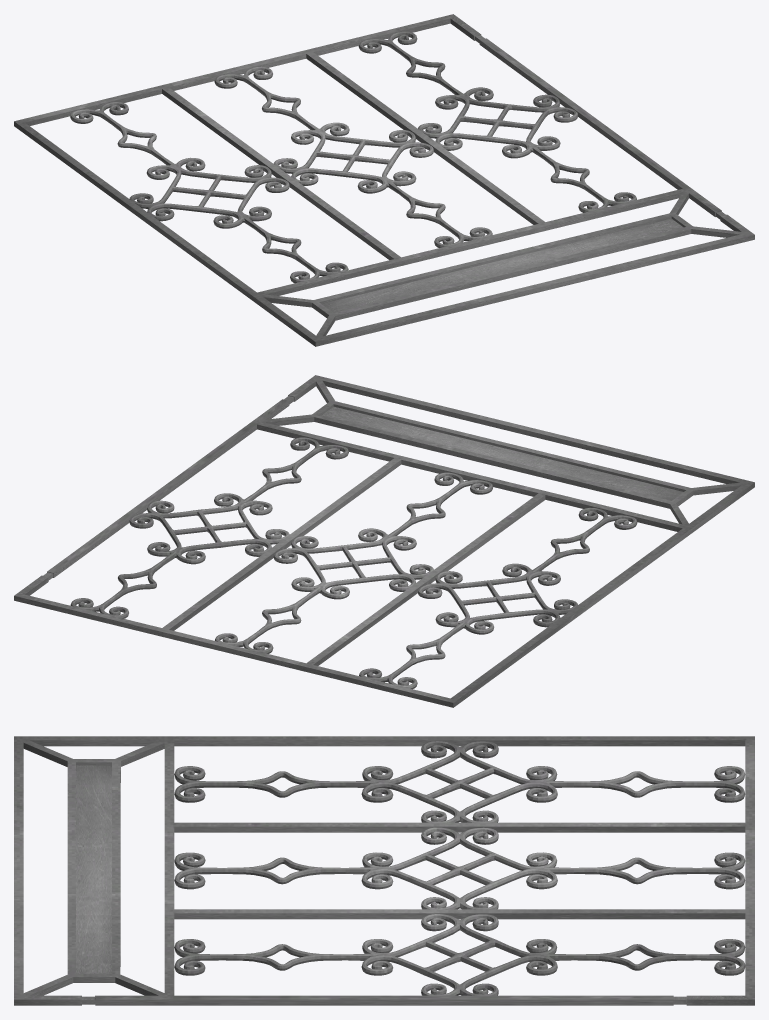
File: portao.obj
The picture shows the model from 3 angles, top to bottom: view 1: azimuth 30°, elevation 25°; view 2: azimuth 150°, elevation 25°; view 3: azimuth 270°, elevation 25°; orthographic projection. The views are drawn at different scales.
Parts seen in each view (by area): view 1: Portao_Cube.001; view 2: Portao_Cube.001; view 3: Portao_Cube.001.
Part boxes in pixels (x1,y1,x2,y2): Portao_Cube.001: [14, 14, 754, 346]; Portao_Cube.001: [14, 375, 754, 707]; Portao_Cube.001: [14, 736, 754, 1005].
Size of the model in its own units: 10.46 by 0.1112 by 12.43.
1 material, 1 textured.
